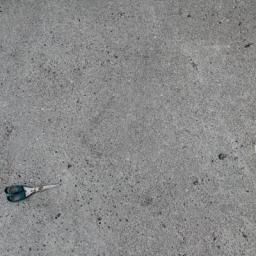FOD: (4, 182, 64, 206)
